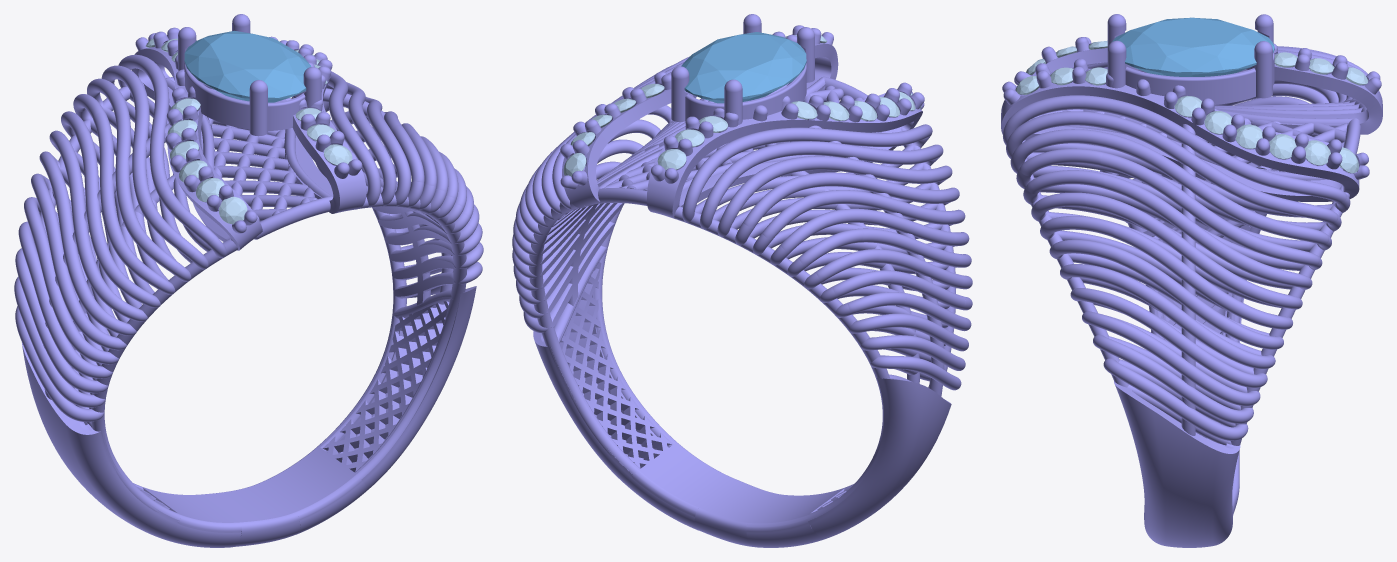
Rendered from Anel-Europeu.glb.
3 views of the same model, side by side, from view 1: azimuth 30°, elevation 25°; view 2: azimuth 150°, elevation 25°; view 3: azimuth 270°, elevation 25° (orthographic). The views are drawn at different scales.
Parts seen in each view (by area): view 1: Anel Europeu.3dm, OVAL, ROUND; view 2: Anel Europeu.3dm, OVAL; view 3: Anel Europeu.3dm, OVAL, ROUND (×4).
Part boxes in pixels (<box>): Anel Europeu.3dm: <box>14,14,483,547</box>; OVAL: <box>184,30,311,102</box>; ROUND: <box>219,196,247,224</box>; Anel Europeu.3dm: <box>512,14,972,547</box>; OVAL: <box>681,32,806,103</box>; Anel Europeu.3dm: <box>1001,14,1382,547</box>; OVAL: <box>1111,17,1274,76</box>; ROUND (×4): <box>1204,111,1330,165</box>.
Size of the model in its own units: 2.37 by 2.65 by 1.84.
